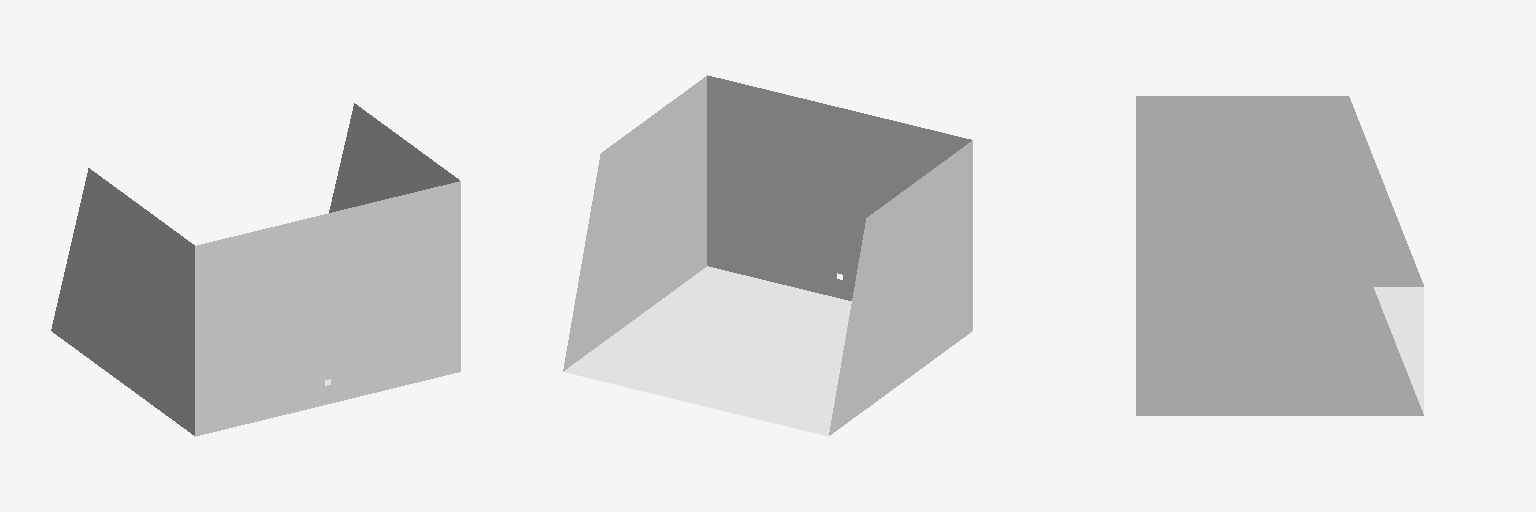
File: quarryArena.obj
3 views of the same model, side by side, from view 1: azimuth 30°, elevation 25°; view 2: azimuth 150°, elevation 25°; view 3: azimuth 270°, elevation 25° (orthographic).
Visible parts, largest first — view 1: quarryArena; view 2: quarryArena; view 3: quarryArena.
Boxes of the visible parts, x1=… form: quarryArena: x1=51, y1=103, x2=460, y2=436; quarryArena: x1=563, y1=75, x2=972, y2=436; quarryArena: x1=1136, y1=96, x2=1423, y2=415.
Bounding box in the file's own units: 132 × 90.59 × 124.